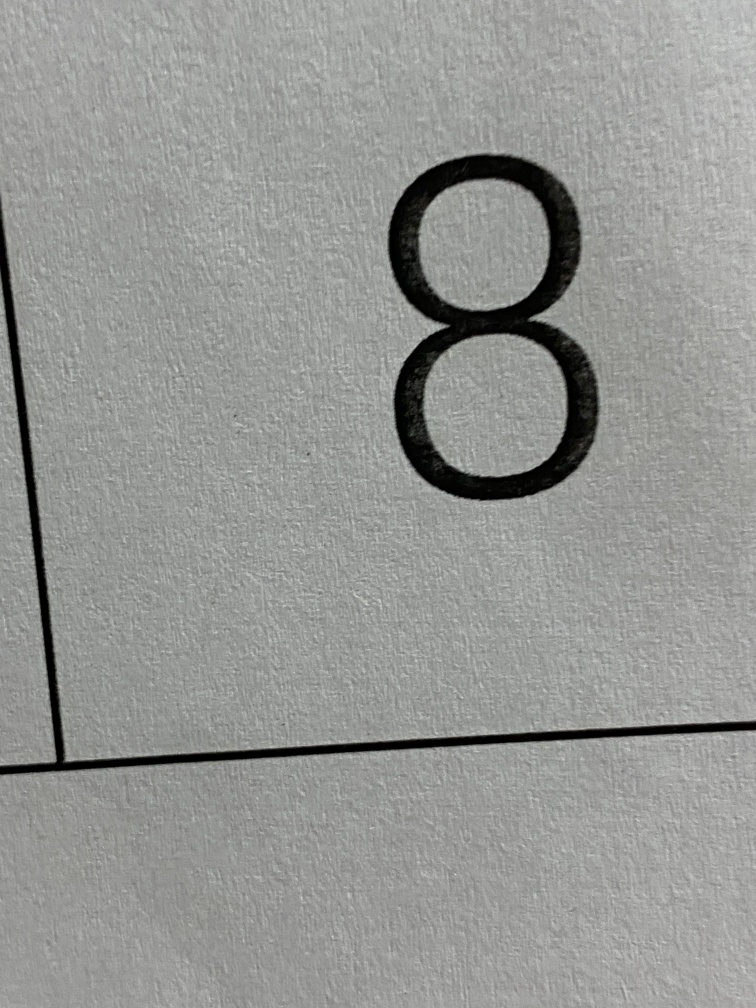eight: (312, 109, 667, 554)
